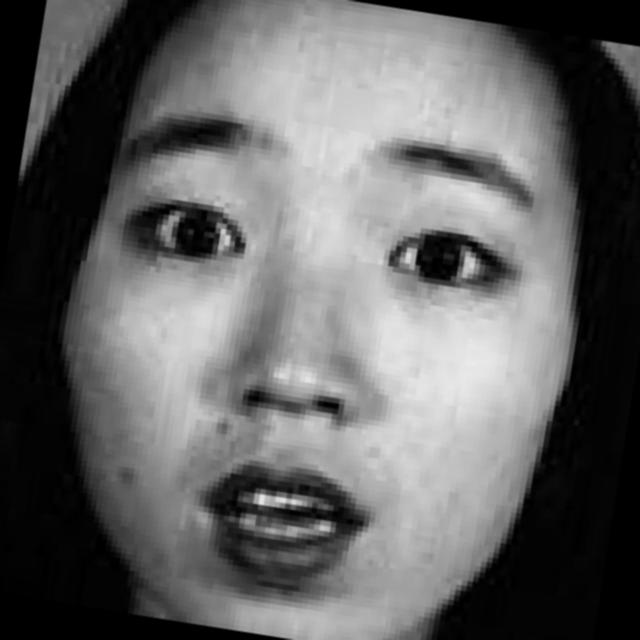surprise: (44, 0, 617, 640)
